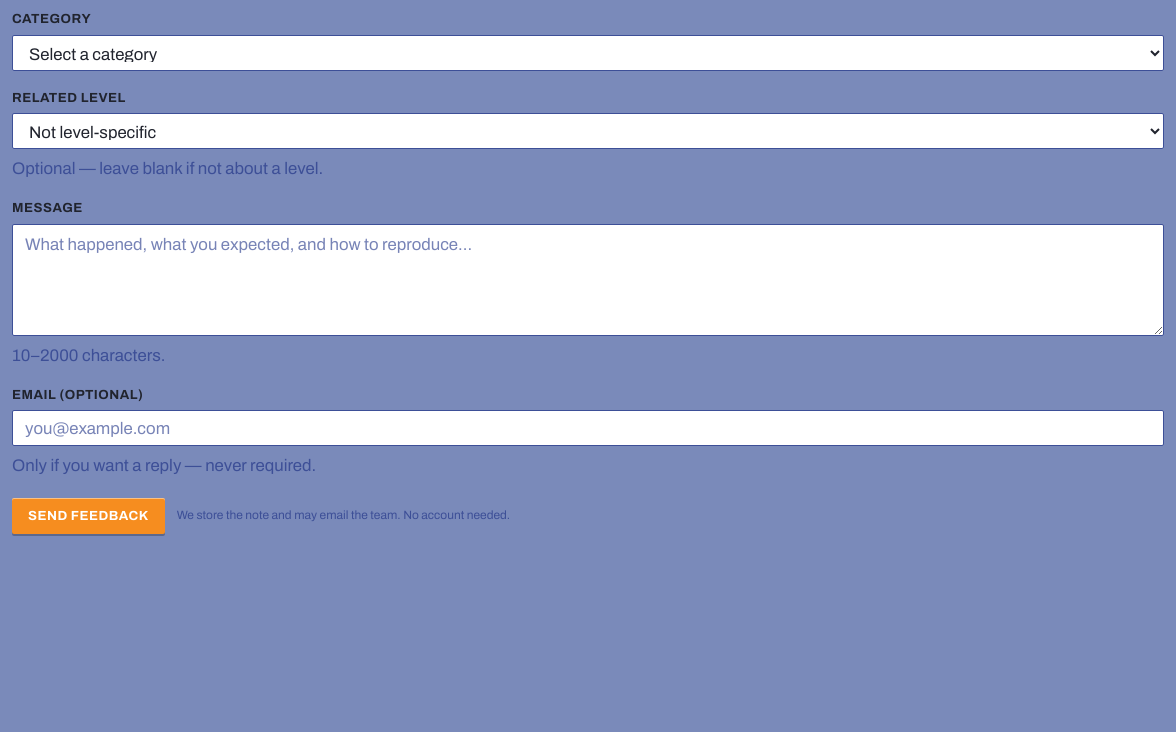
Test: FeedbackForm › shows rate-limit message on 429
The image size is (1176, 732).
Select "Other" in the dropdown labelled "Category". click: (588, 52)
box: [12,34,1164,70]
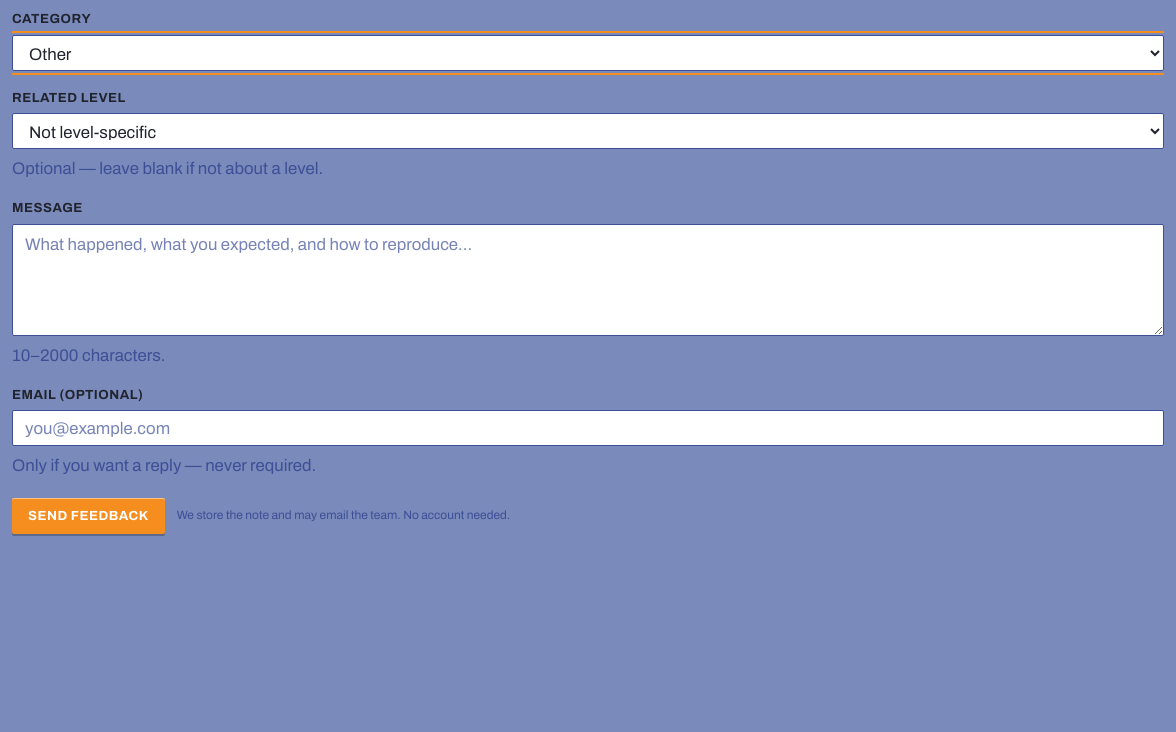
Type "This is a long enough feedback message." into the text box labelled "Message". click: (588, 280)
box: [12,224,1164,336]
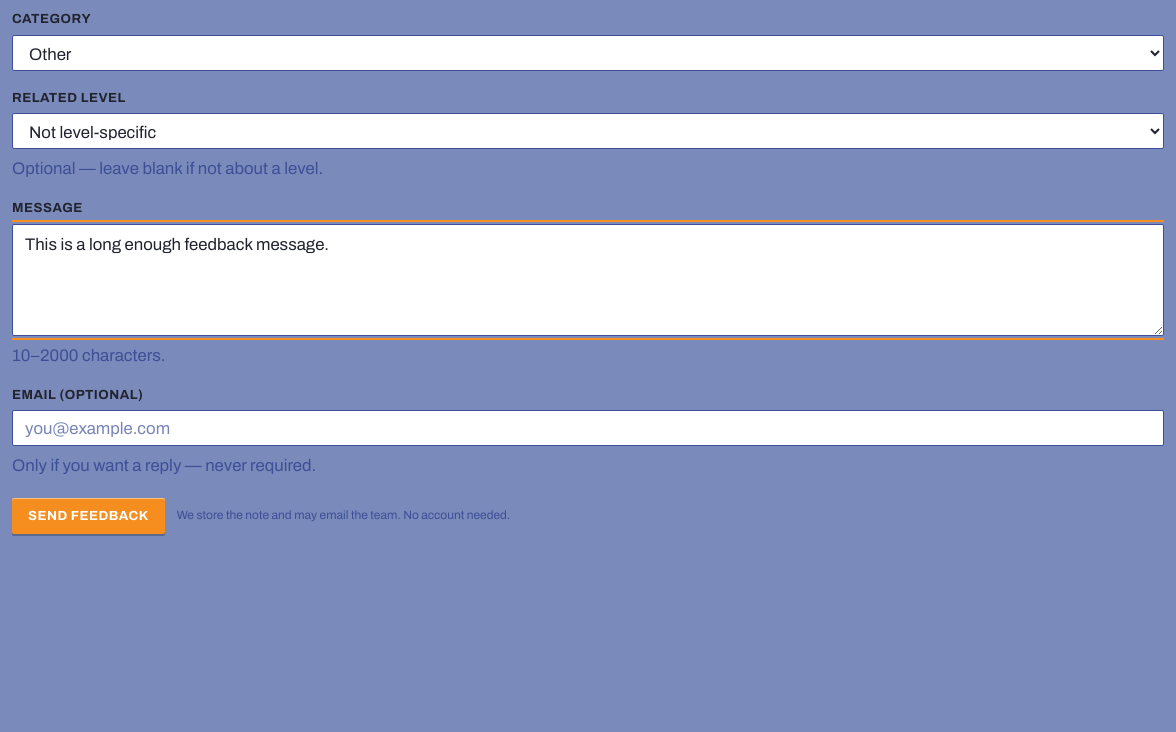
Click the button "Send feedback". click: (88, 516)
box: [12,498,165,534]
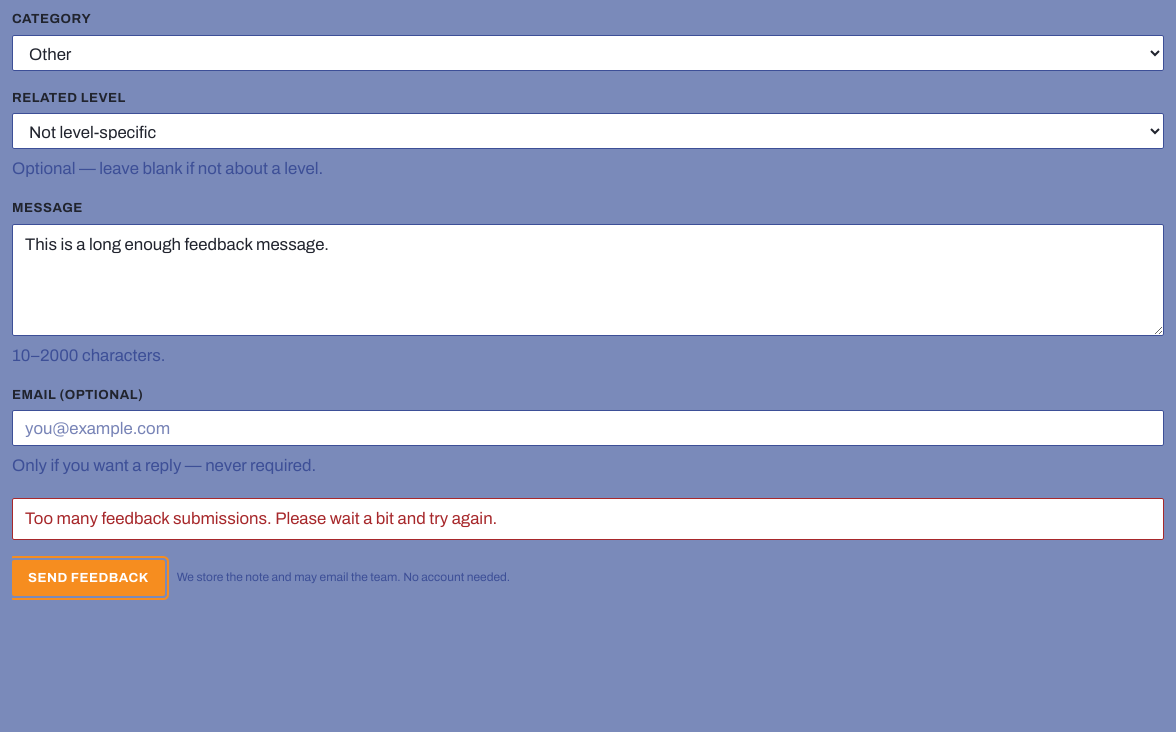
Expected: the text "Too many feedback submissions. Please wait a bit and try again." is shown, [12,498,1164,540]
